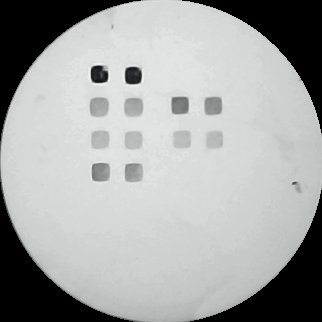检查点: (88, 94, 111, 119), (88, 62, 111, 85), (119, 65, 145, 85), (123, 161, 146, 183), (123, 130, 147, 151), (123, 95, 144, 118), (202, 95, 224, 116), (204, 129, 226, 150), (91, 162, 112, 184), (169, 95, 191, 115), (91, 128, 111, 150), (171, 130, 193, 150)
